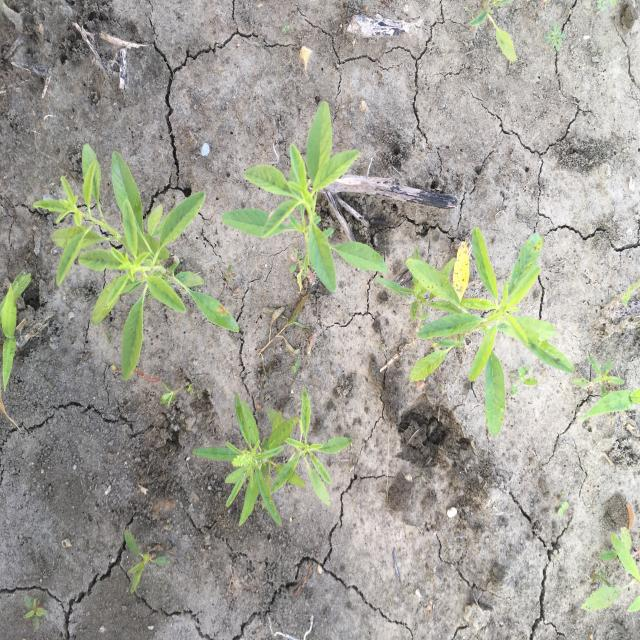Waterhemp: (31, 140, 241, 384), (374, 226, 576, 438), (220, 99, 389, 295), (191, 386, 357, 530), (122, 528, 170, 596)
